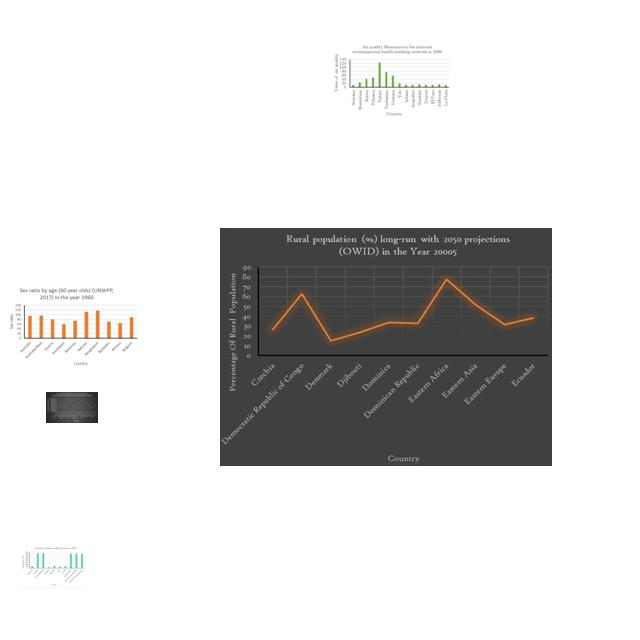Graph: (220, 228, 552, 466), (5, 284, 140, 369), (330, 43, 451, 118), (21, 546, 86, 588), (46, 392, 98, 423)
